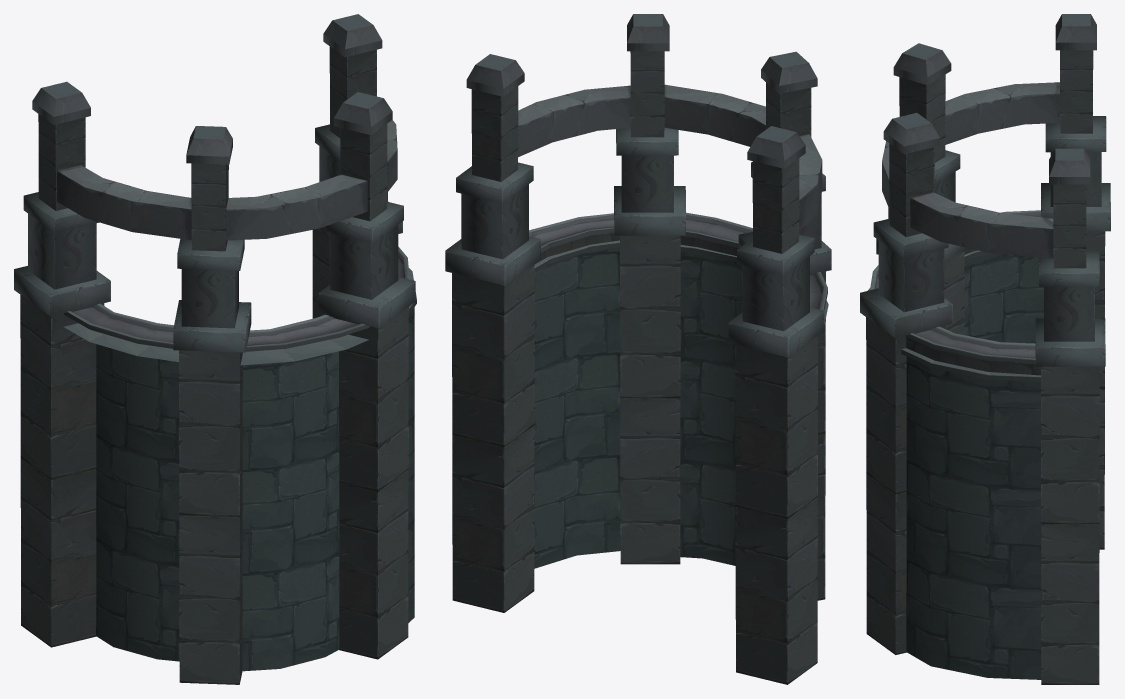
Rendered from moba_yjjz.FBX.
The picture shows the model from 3 angles, left to right: view 1: azimuth 30°, elevation 25°; view 2: azimuth 150°, elevation 25°; view 3: azimuth 270°, elevation 25°; orthographic projection. The views are drawn at different scales.
Visible parts, largest first — view 1: moba_yjjz; view 2: moba_yjjz; view 3: moba_yjjz.
Boxes of the visible parts, <box> form: moba_yjjz: <box>14,14,416,684</box>; moba_yjjz: <box>445,14,831,684</box>; moba_yjjz: <box>860,14,1110,684</box>.
Bounding box in the file's own units: 35.93 × 23.26 × 52.91.
